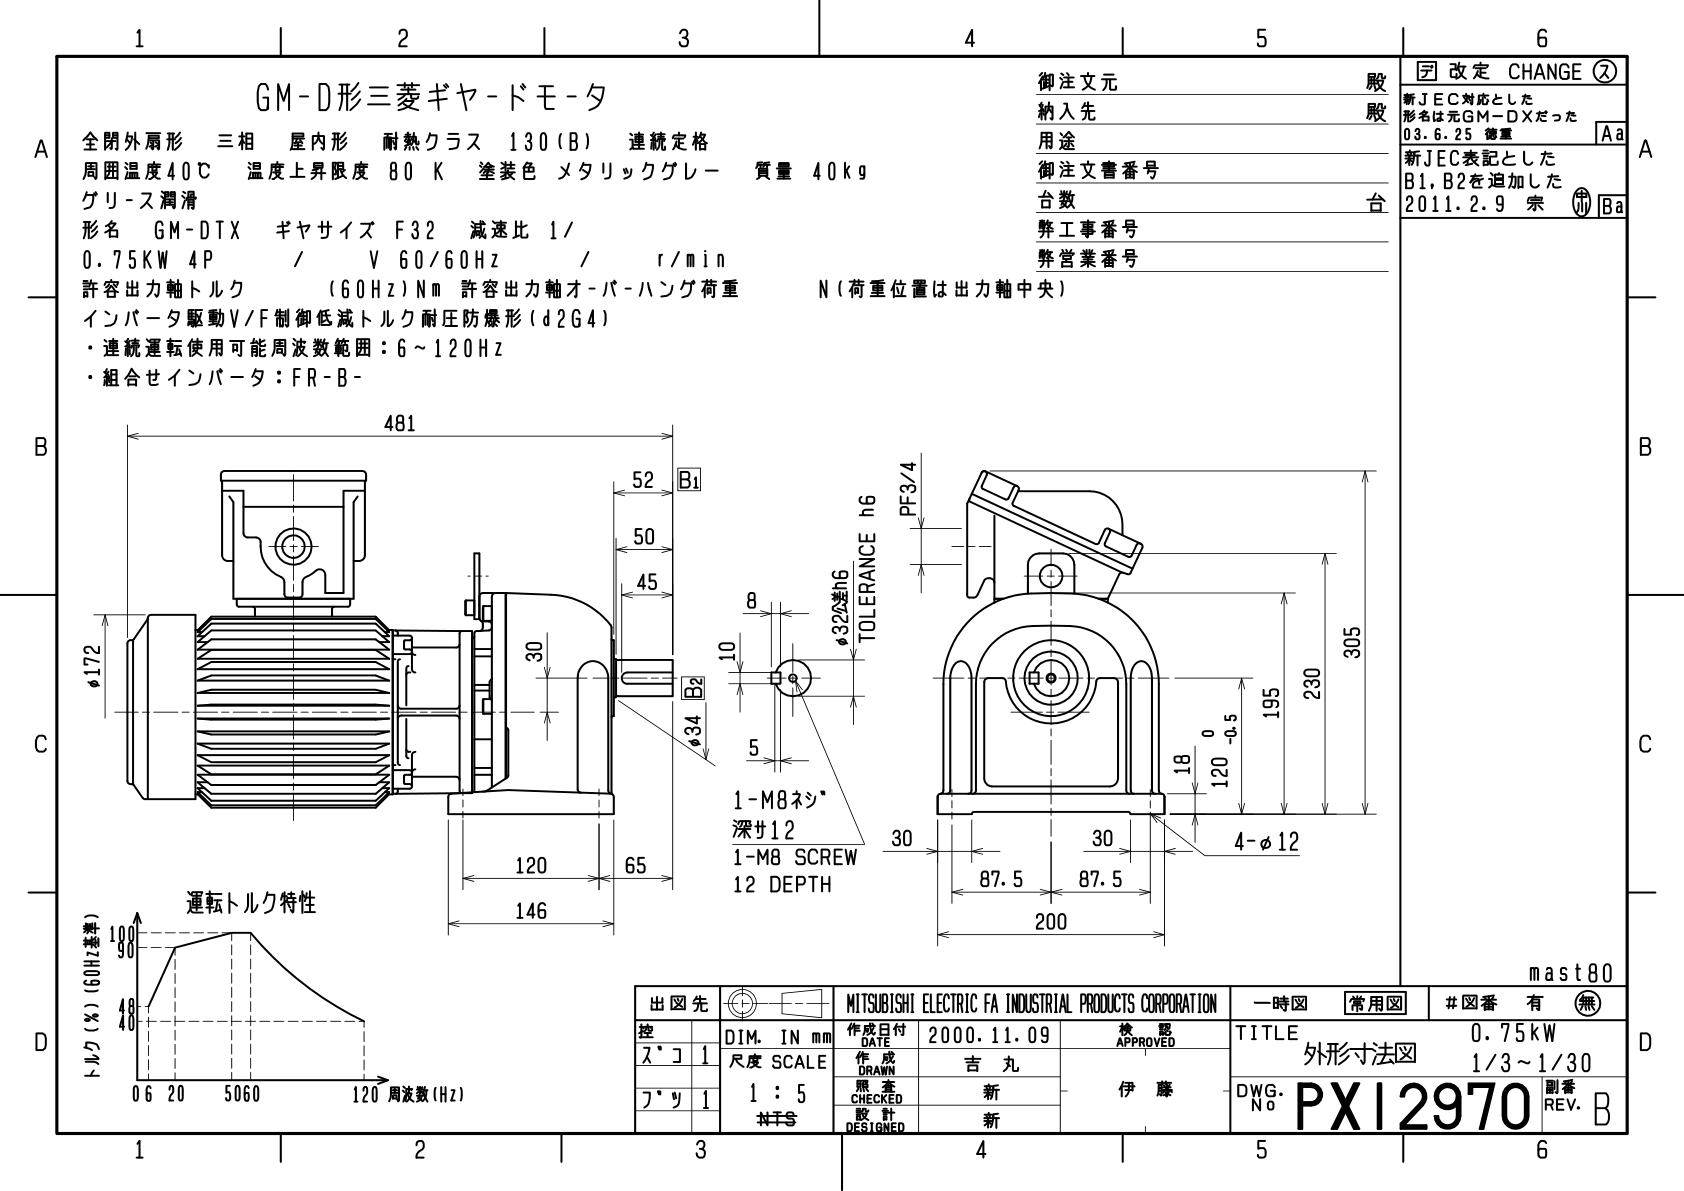GM_D_VF制御屋内_三相_脚: (61, 396, 1385, 973)
